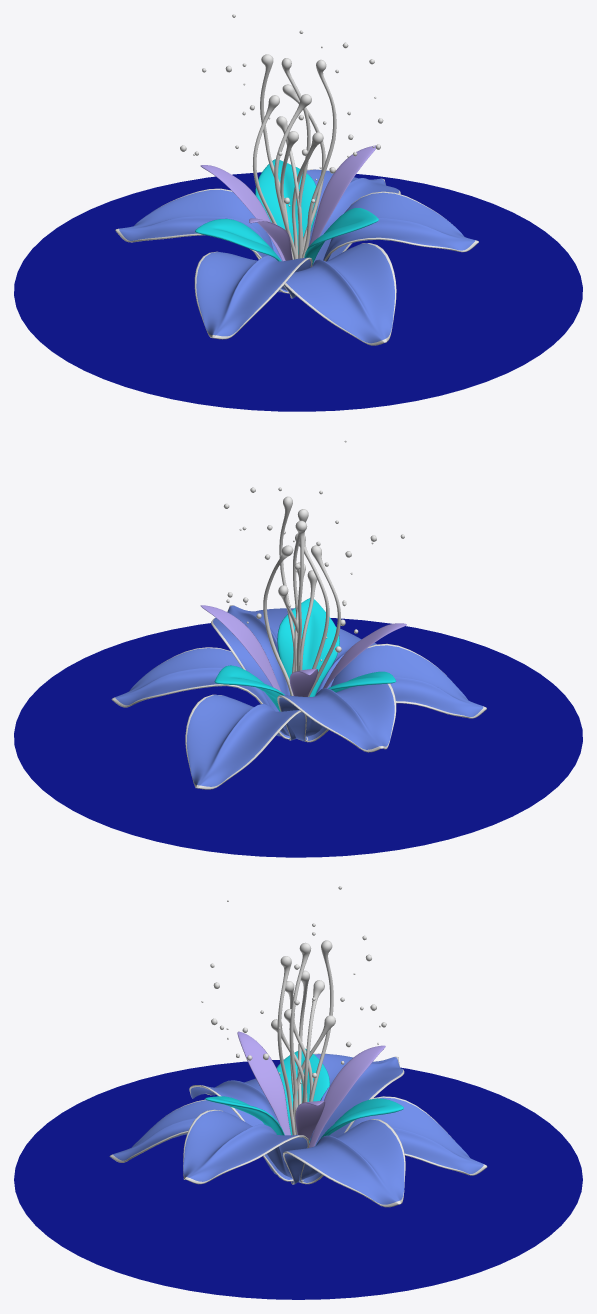
The model's file is Glowing Flower for scetchfab.fbx.
3 views of the same model, one above another, from view 1: azimuth 30°, elevation 25°; view 2: azimuth 150°, elevation 25°; view 3: azimuth 270°, elevation 25° (orthographic).
Parts seen in each view (by area): view 1: Circle, Plane.005, Plane.006, Plane.004, Plane.007, Vert.003, Plane.001, Vert.002, Plane.003, Vert.001, Plane.010, Plane.009 (+4 smaller); view 2: Circle, Plane, Plane.007, Plane.006, Plane.003, Plane.004, Plane.008, Vert.002, Vert.001, Vert.003, Plane.010, Plane.001 (+5 smaller); view 3: Circle, Plane.003, Plane.004, Plane, Plane.007, Plane.005, Plane.011, Vert.002, Plane.002, Plane.006, Vert.001, Vert.003 (+5 smaller).
Part boxes in pixels (x1,y1,x2,y2): Circle: [14, 172, 582, 411]; Plane.005: [283, 243, 396, 345]; Plane.006: [194, 251, 312, 339]; Plane.004: [323, 191, 478, 261]; Plane.007: [115, 188, 288, 293]; Vert.003: [274, 59, 336, 259]; Plane.001: [255, 159, 317, 254]; Vert.002: [260, 54, 325, 258]; Plane.003: [306, 169, 400, 263]; Vert.001: [252, 58, 310, 259]; Plane.010: [309, 145, 375, 245]; Plane.009: [195, 218, 281, 261]; Circle: [14, 618, 582, 857]; Plane: [185, 694, 308, 789]; Plane.007: [277, 683, 396, 752]; Plane.006: [297, 643, 486, 742]; Plane.003: [111, 647, 290, 739]; Plane.004: [211, 605, 293, 711]; Plane.008: [277, 598, 339, 696]; Vert.002: [263, 520, 307, 695]; Vert.001: [293, 509, 340, 696]; Vert.003: [279, 496, 329, 672]; Plane.010: [200, 605, 281, 691]; Plane.001: [214, 665, 284, 711]; Circle: [14, 1059, 582, 1299]; Plane.003: [283, 1119, 405, 1207]; Plane.004: [183, 1109, 309, 1184]; Plane: [298, 1096, 487, 1184]; Plane.007: [309, 1053, 404, 1145]; Plane.005: [109, 1099, 293, 1181]; Plane.011: [237, 1031, 290, 1135]; Vert.002: [293, 940, 335, 1126]; Plane.002: [309, 1045, 385, 1147]; Plane.006: [189, 1078, 279, 1126]; Vert.001: [284, 942, 313, 1134]; Vert.003: [271, 956, 307, 1135].
Size of the model in its own units: 1016 by 540 by 1016.
